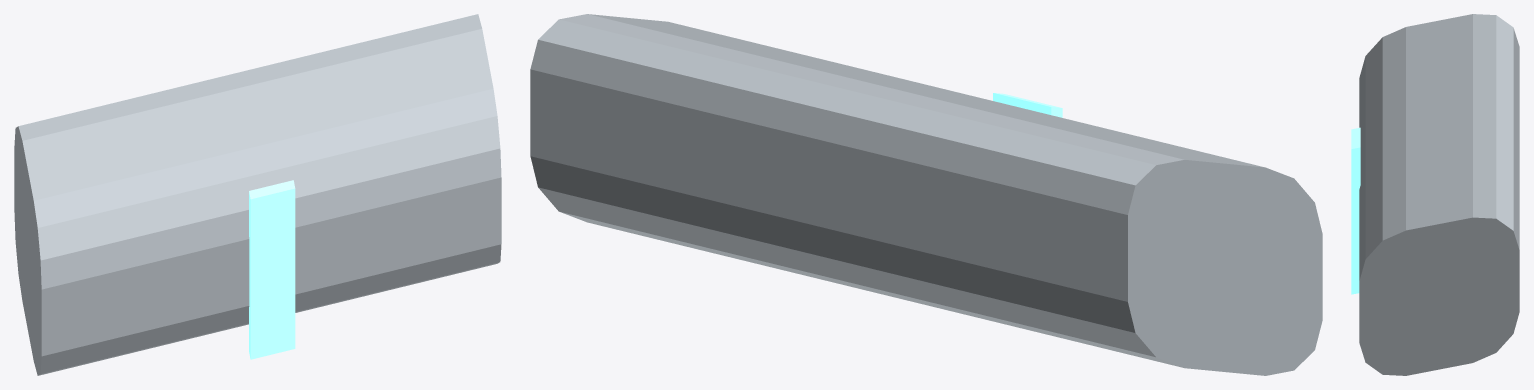
Rendered from Door_LeafFolded.gltf.
The picture shows the model from 3 angles, left to right: view 1: azimuth 30°, elevation 25°; view 2: azimuth 150°, elevation 25°; view 3: azimuth 270°, elevation 25°; orthographic projection. The views are drawn at different scales.
Parts seen in each view (by area): view 1: Door_LeafFolded_baked; view 2: Door_LeafFolded_baked; view 3: Door_LeafFolded_baked.
Part boxes in pixels (x1=…): Door_LeafFolded_baked: x1=14, y1=14, x2=501, y2=375; Door_LeafFolded_baked: x1=530, y1=14, x2=1322, y2=375; Door_LeafFolded_baked: x1=1351, y1=14, x2=1519, y2=375.
Bounding box in the file's own units: 0.816 × 0.3174 × 0.252.
